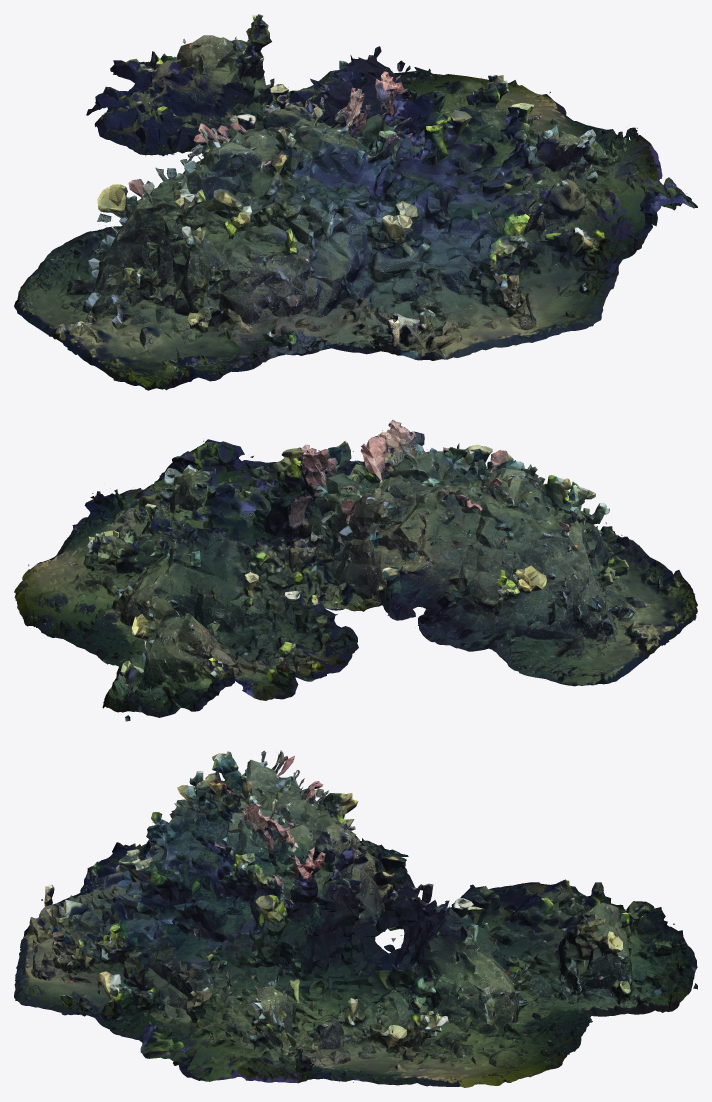
Rendered from sponge-garden.glb.
3 renders of one model, top to bottom at view 1: azimuth 30°, elevation 25°; view 2: azimuth 150°, elevation 25°; view 3: azimuth 270°, elevation 25°, orthographic. The views are drawn at different scales.
Parts seen in each view (by area): view 1: model; view 2: model; view 3: model.
Boxes of the visible parts, box(x1,y1,x2,y2) form: model: box(14, 14, 697, 390); model: box(14, 419, 697, 721); model: box(14, 750, 697, 1087).
Bounding box in the file's own units: 11.45 × 3.32 × 12.
Materials: 4 (4 with a texture image).
